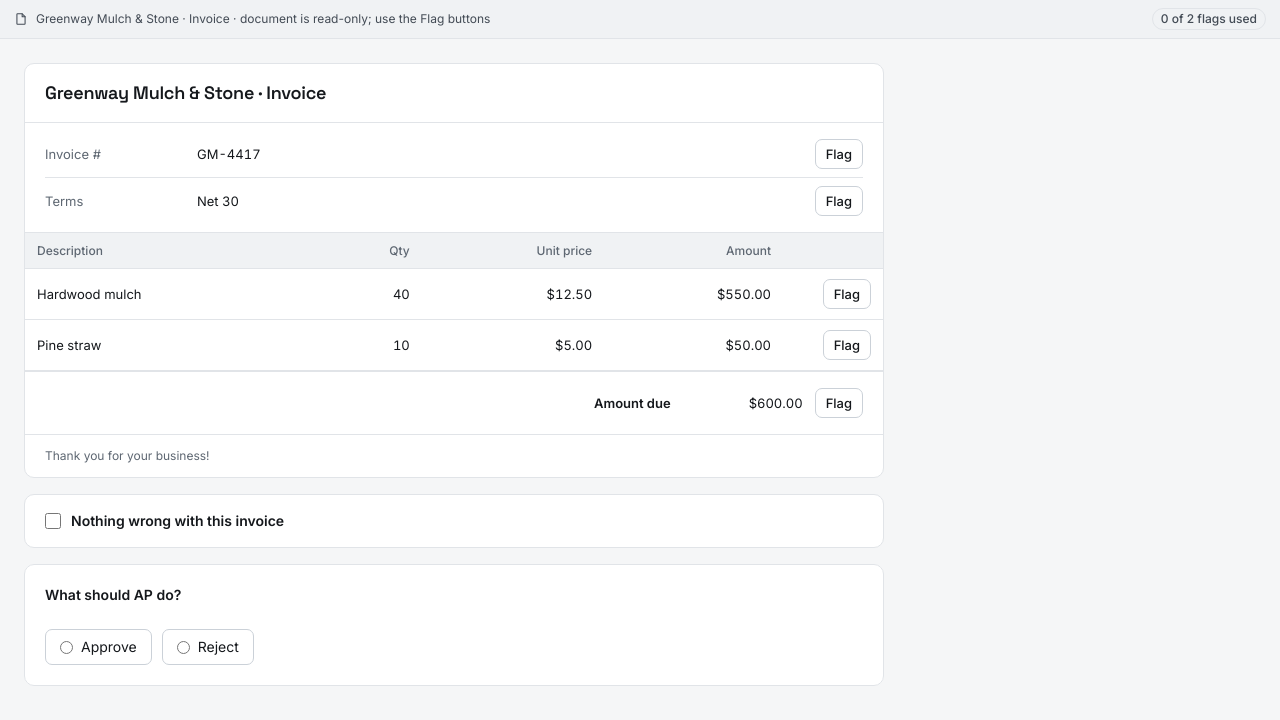
DocumentReviewStep "nothing wrong here" › a confirmed document can't be flagged until the confirm is removed
Later steps or results of the test are not shown.
Step 1. Click the checkbox labelled "Nothing wrong with this invoice" → [53, 521], box top-left (45, 513), bottom-right (61, 529)
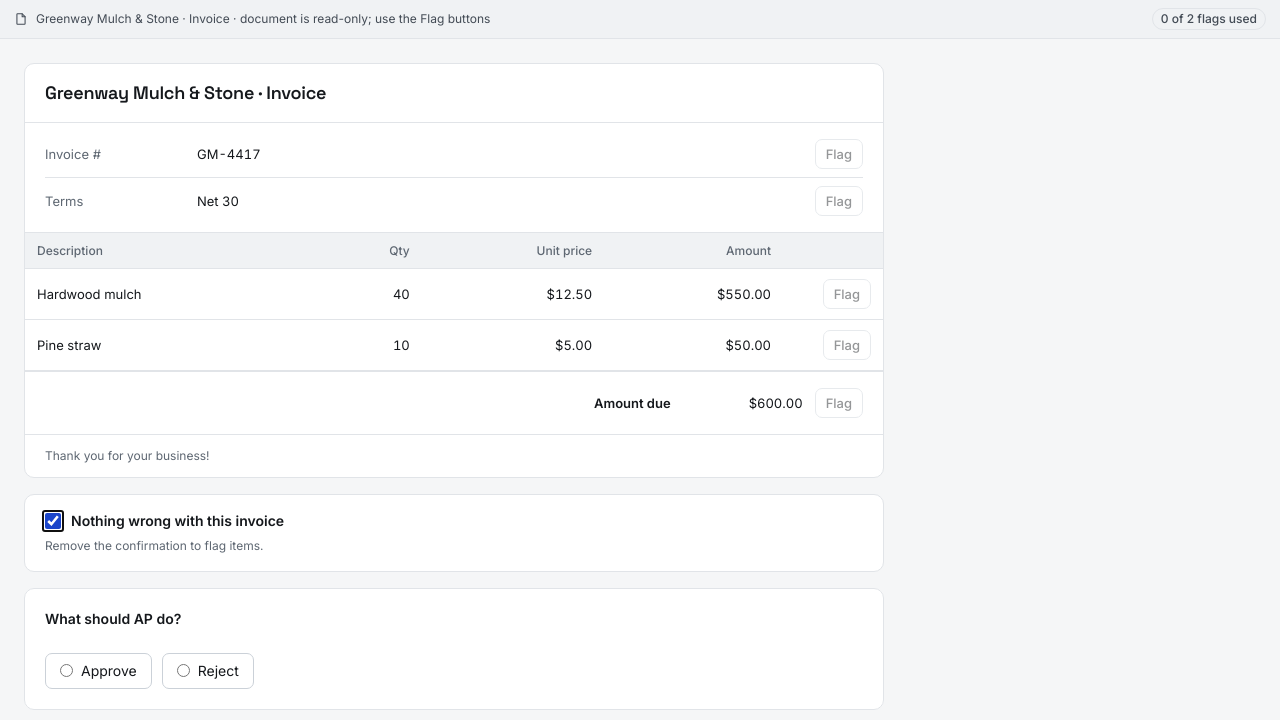
Check: the text "Remove the confirmation to flag items." is shown, box top-left (45, 538), bottom-right (263, 553)
